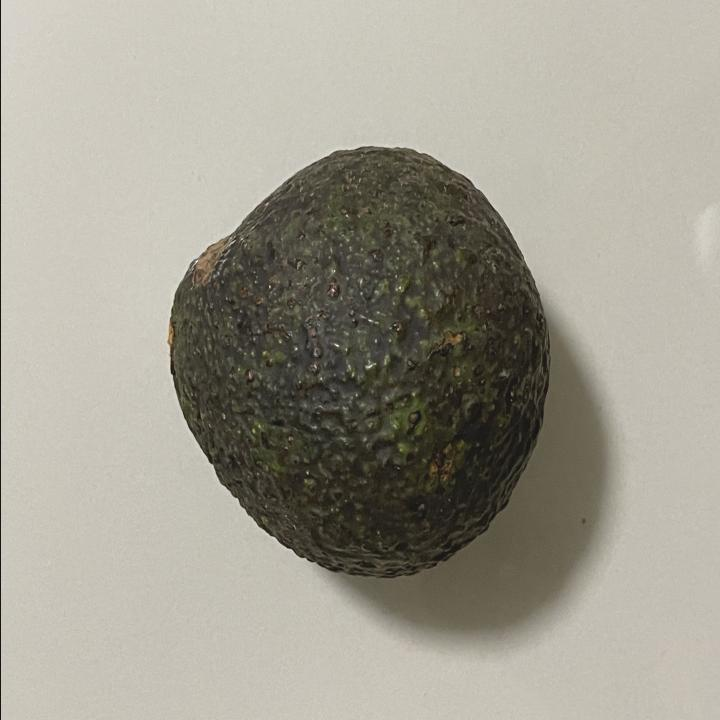Level1: (154, 132, 562, 596)
